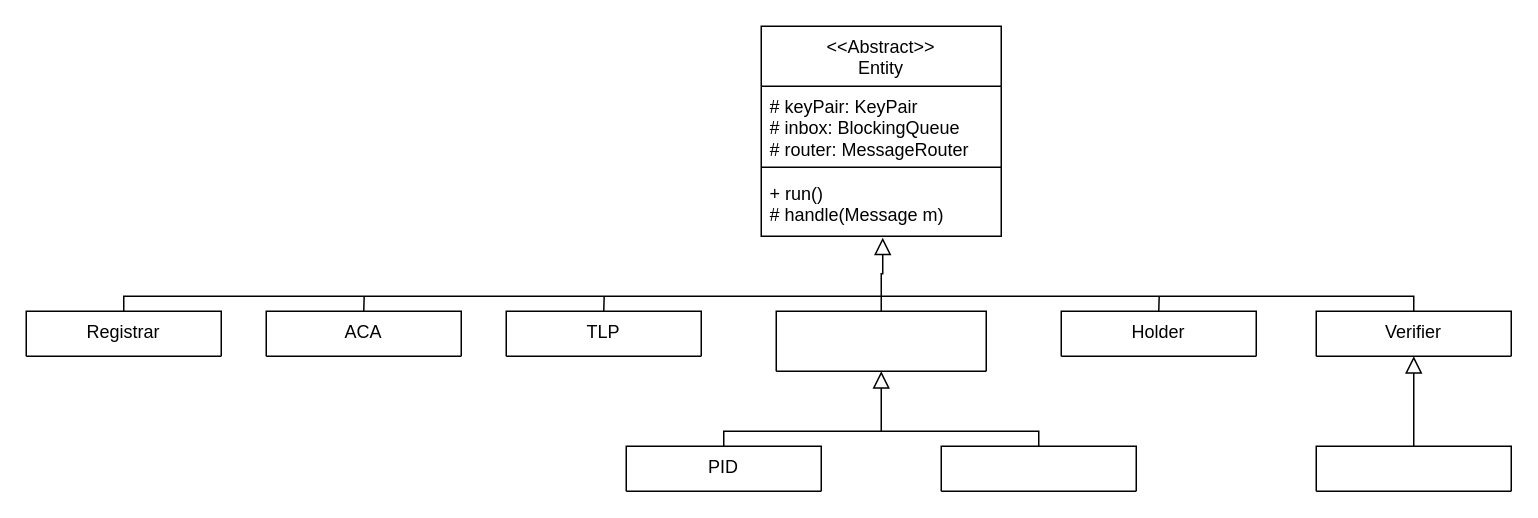
Image size: 1538x518. Some labels were removed from this diagram. Each missing label, with the centre of its shape:
"<<Abstract>> Issuer" goes at pixel 880 340.
"MalignVerifier" goes at pixel 1413 468.
"QEAA" goes at pixel 1038 468.
